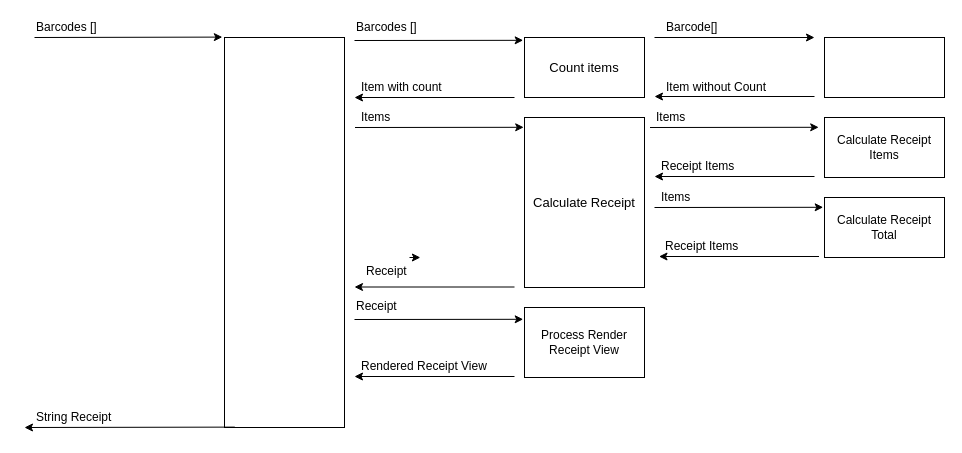
Some shapes in this 962 by 453 pixel diagram are drawn without their labels. Each missing label, with the box of its shape:
Load Database: (824, 36, 944, 98)
Print Receipt: (224, 36, 344, 428)
